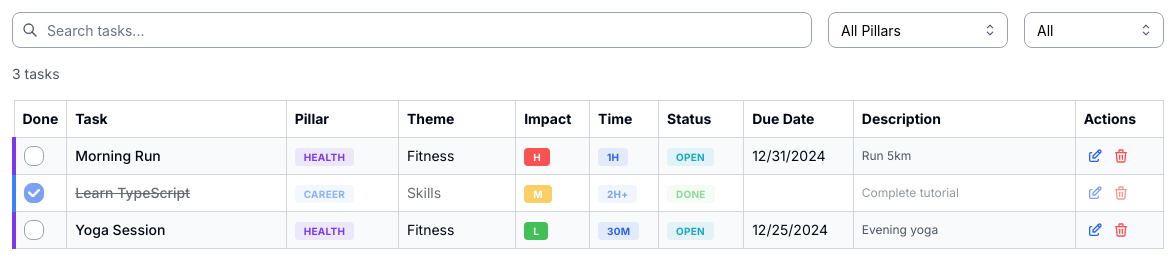
Test: AllTasksGrid › Filtering › filters tasks by search query
Type "Morning" into the field with placeholder "Search tasks..." at (412,30), box x1=12 y1=12 x2=812 y2=48
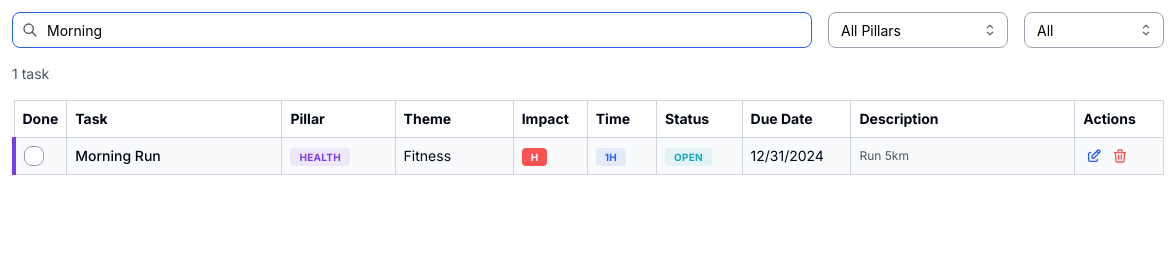
Expected: the text "Morning Run" is shown, x1=75 y1=147 x2=161 y2=164
Expected: the text "Learn TypeScript" is gone
Expected: the text "Yoga Session" is gone
